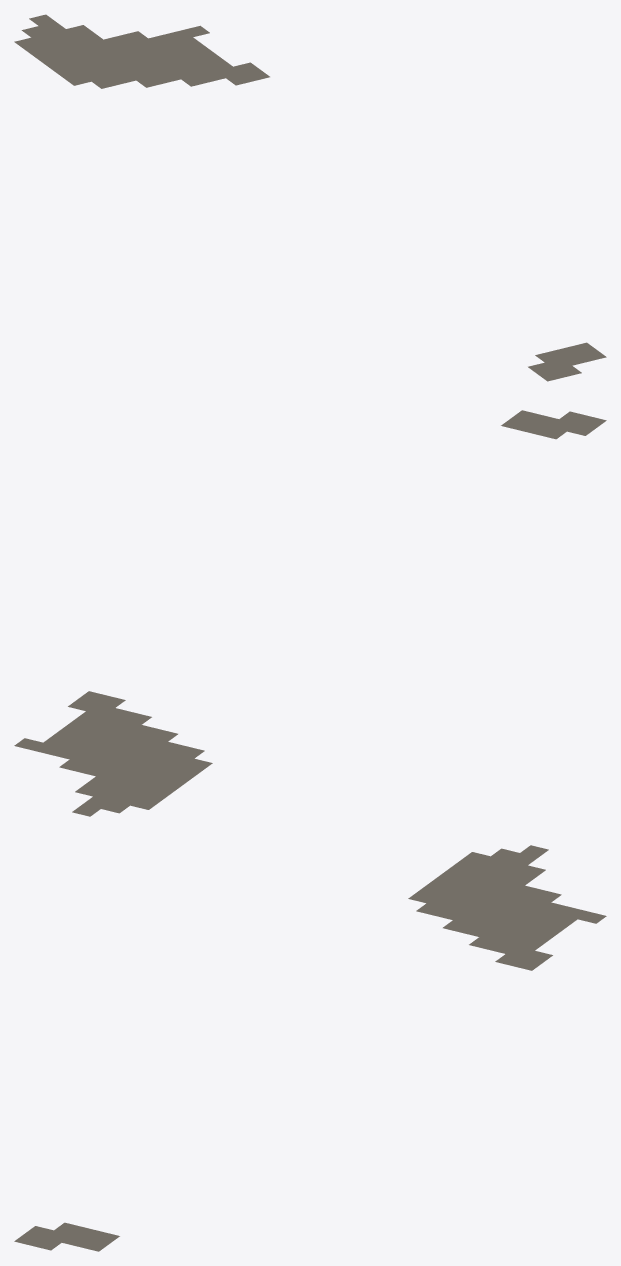
The model's file is Isl-flat4-RocksArea.fbx.
The picture shows the model from 3 angles, top to bottom: view 1: azimuth 30°, elevation 25°; view 2: azimuth 150°, elevation 25°; view 3: azimuth 330°, elevation 25°; orthographic projection. The views are drawn at different scales.
Parts seen in each view (by area): view 1: Isl-flat4-RocksArea; view 2: Isl-flat4-RocksArea; view 3: Isl-flat4-RocksArea.
Boxes of the visible parts, bbox=[...] form: Isl-flat4-RocksArea: bbox=[14, 14, 606, 381]; Isl-flat4-RocksArea: bbox=[14, 410, 606, 816]; Isl-flat4-RocksArea: bbox=[14, 845, 606, 1251].
Bounding box in the file's own units: 9 × 0 × 50.
